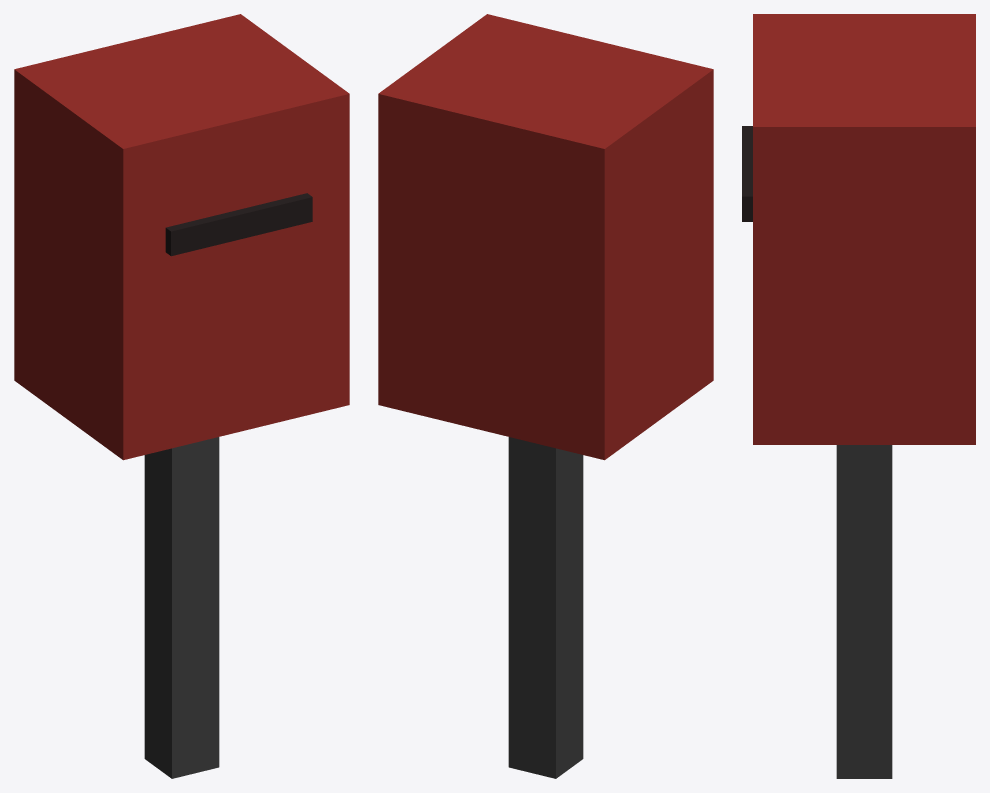
Rendered from banque_boite_lettres.glb.
The picture shows the model from 3 angles, left to right: view 1: azimuth 30°, elevation 25°; view 2: azimuth 150°, elevation 25°; view 3: azimuth 270°, elevation 25°; orthographic projection. The views are drawn at different scales.
Parts seen in each view (by area): view 1: banque_boite_lettres; view 2: banque_boite_lettres; view 3: banque_boite_lettres.
Part boxes in pixels (x1=…): banque_boite_lettres: x1=14, y1=14, x2=349, y2=778; banque_boite_lettres: x1=378, y1=14, x2=713, y2=778; banque_boite_lettres: x1=742, y1=14, x2=975, y2=778.
Bounding box in the file's own units: 0.48 × 1.38 × 0.42.
